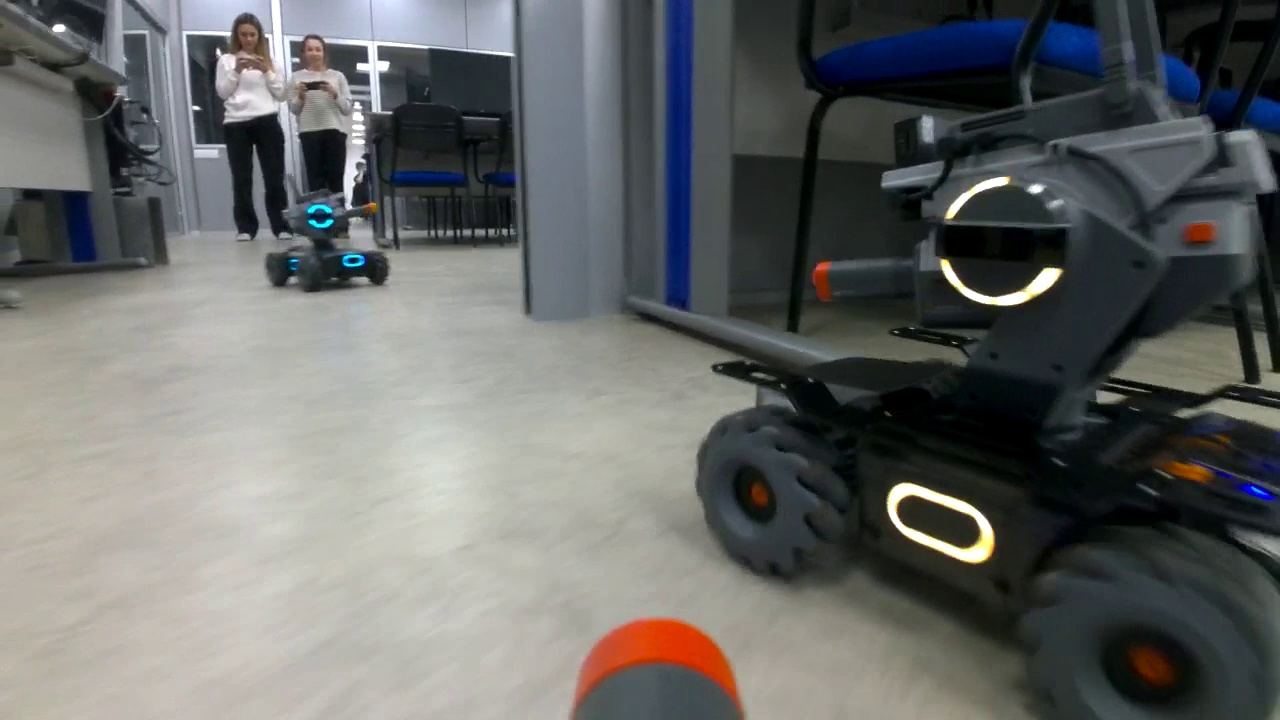robot: (698, 82, 1275, 716), (261, 188, 390, 296)
